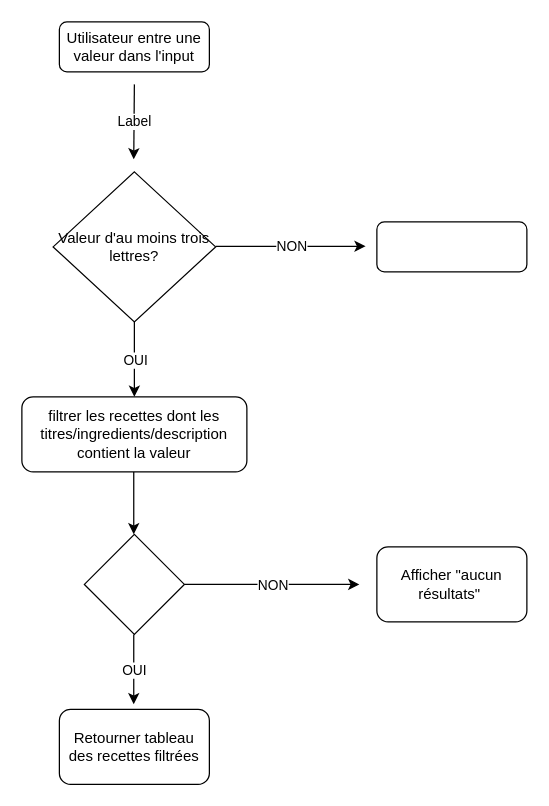
Image size: 549x806. Some labels were removed from this diagram. Each missing label, with the box of its shape:
ne rien faire: (376, 221, 527, 272)
résultats existants?: (83, 533, 184, 634)
